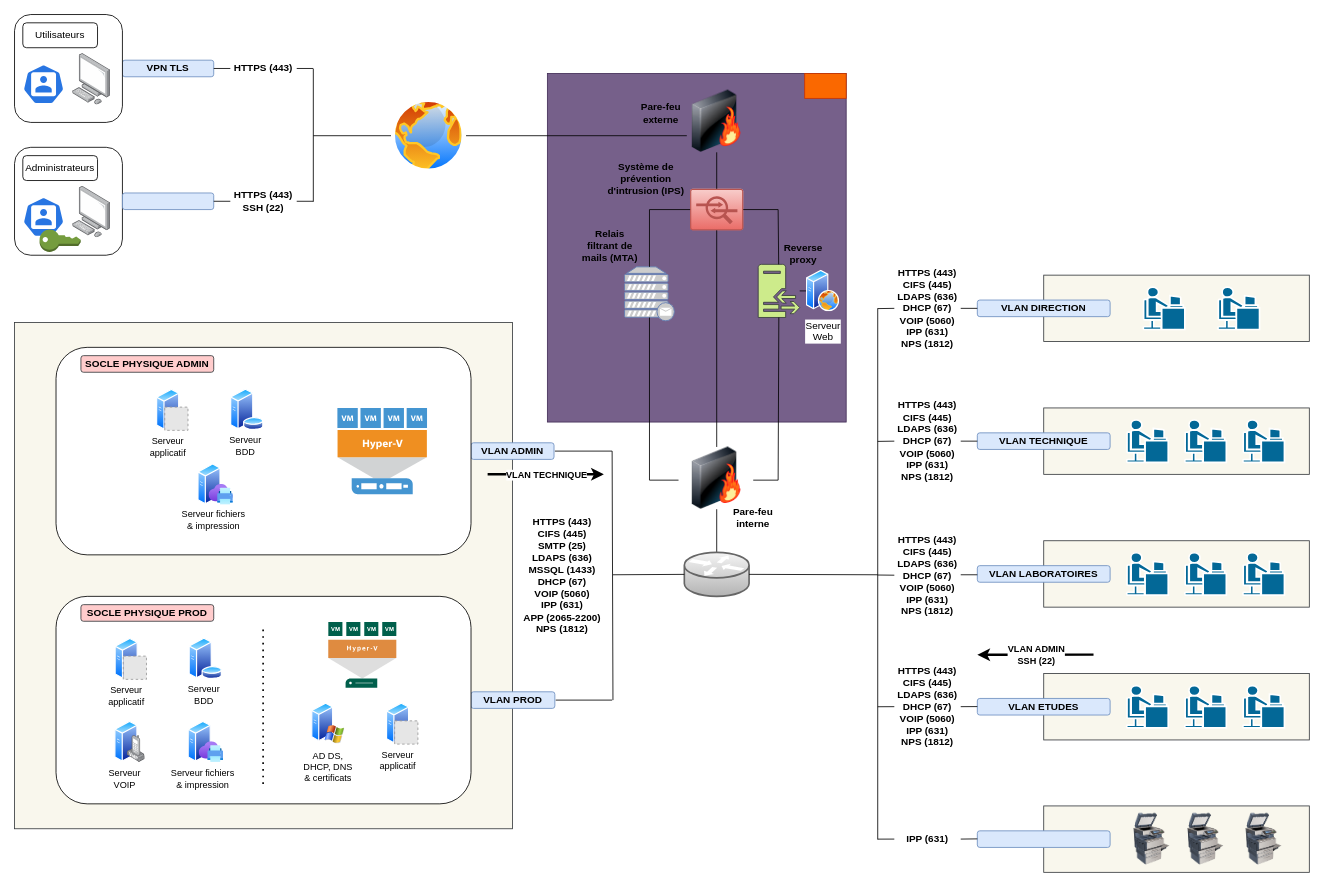
Image size: 1324x887. Some labels were removed from this diagram. Grey dashed boxes stand in for pictures. The box of each missing label's shape, as (x1, y1, x2, y2) in pixels:
DMZ: (804, 73, 846, 98)
INTERNET: (391, 98, 466, 173)
Routeur: (683, 551, 749, 597)
SALLE SERVEUR: (14, 322, 513, 829)
VLAN IMPRIMANTES: (976, 830, 1110, 847)
VPN IPSEC: (122, 192, 214, 210)
